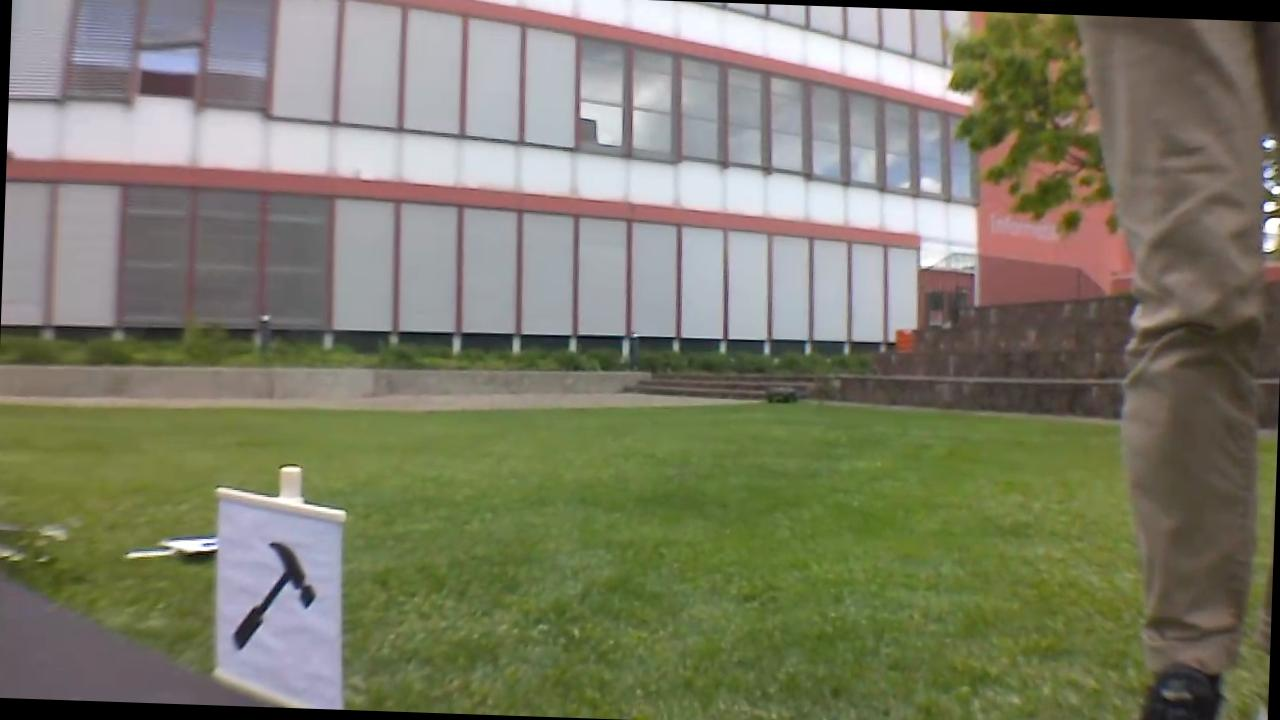hammer: (218, 517, 325, 661)
